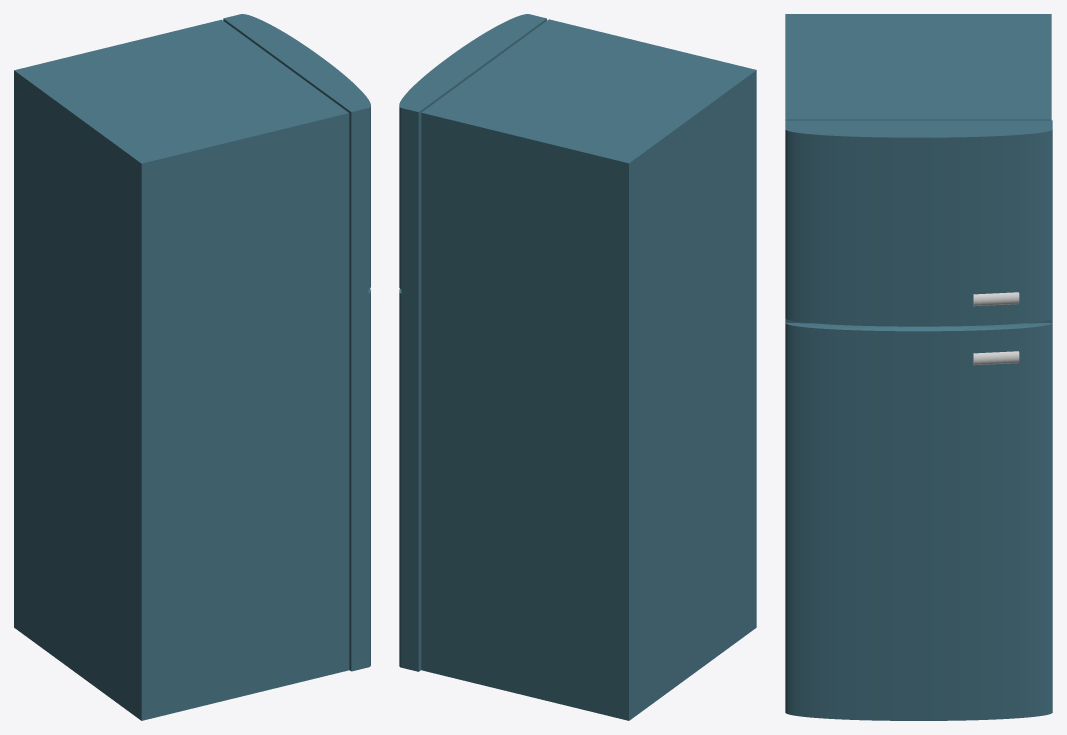
File: fridge.glb
The picture shows the model from 3 angles, left to right: view 1: azimuth 30°, elevation 25°; view 2: azimuth 150°, elevation 25°; view 3: azimuth 270°, elevation 25°; orthographic projection. The views are drawn at different scales.
Parts seen in each view (by area): view 1: Cube, Cube.007; view 2: Cube, Cube.007; view 3: Cube.007, Cube, Cube.008, Cube.015.
Boxes of the visible parts, x1=… form: Cube: x1=14, y1=19, x2=349, y2=720; Cube.007: x1=223, y1=14, x2=370, y2=671; Cube: x1=421, y1=19, x2=756, y2=720; Cube.007: x1=399, y1=14, x2=546, y2=671; Cube.007: x1=785, y1=120, x2=1052, y2=720; Cube: x1=785, y1=14, x2=1051, y2=120; Cube.008: x1=973, y1=292, x2=1019, y2=306; Cube.015: x1=973, y1=351, x2=1019, y2=365.
Size of the model in its own units: 0.044 by 0.0954 by 0.0396.
